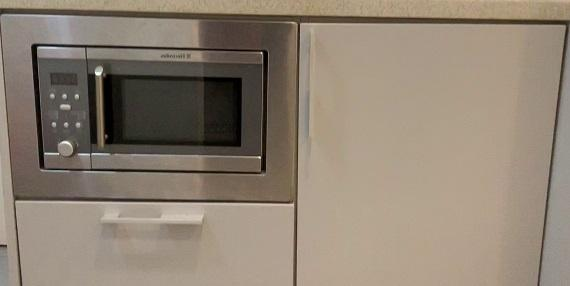cabinet_door: (298, 22, 558, 286), (16, 201, 293, 283)
handle: (96, 209, 210, 232), (303, 27, 318, 140)
